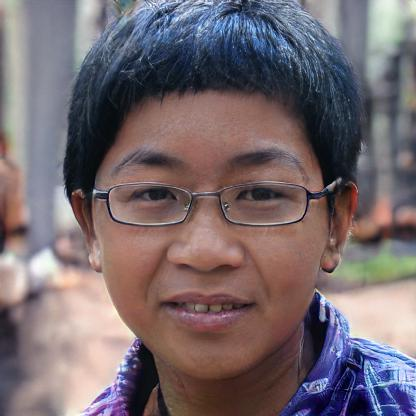glasses: (96, 173, 321, 231)
